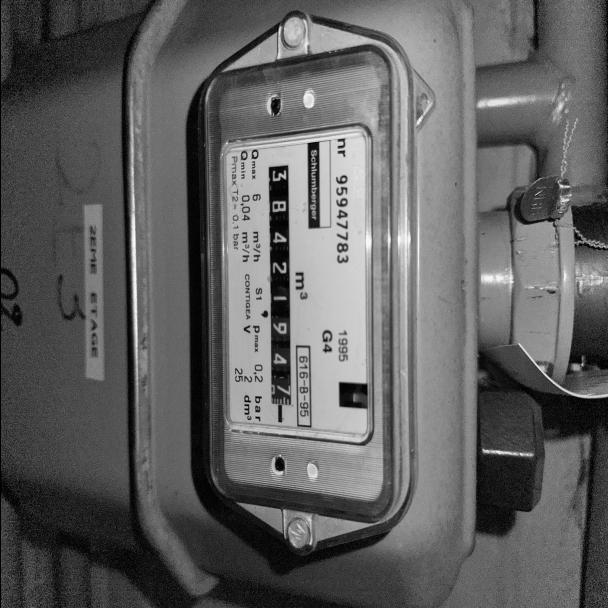1: (270, 285, 287, 310)
2: (270, 256, 286, 278)
3: (268, 167, 288, 186)
4: (270, 348, 288, 372), (270, 224, 287, 247)
7: (271, 377, 289, 404)
8: (270, 195, 287, 217)
9: (270, 321, 286, 338)
cm: (268, 318, 290, 406)
counter: (268, 162, 290, 316)
